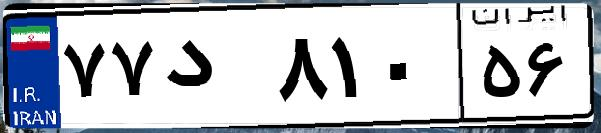0: (385, 28, 445, 110)
1: (330, 28, 385, 110)
5: (475, 38, 525, 113)
6: (525, 38, 570, 115)
7: (57, 26, 110, 100), (110, 28, 158, 98)
8: (270, 28, 330, 110)
د: (158, 20, 270, 120)
